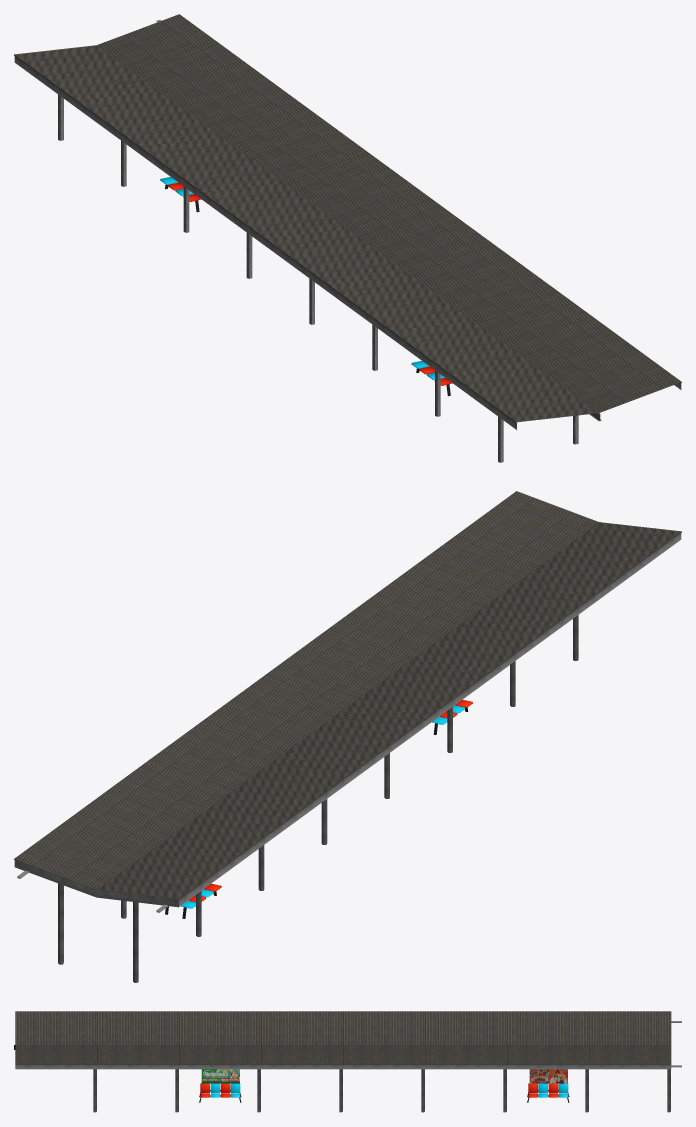
The model's file is AMB_HOME_YANE2_CENTER.glb.
3 renders of one model, top to bottom at view 1: azimuth 30°, elevation 25°; view 2: azimuth 150°, elevation 25°; view 3: azimuth 270°, elevation 25°, orthographic. The views are drawn at different scales.
Parts seen in each view (by area): view 1: Mesh6; view 2: Mesh6; view 3: Mesh6, obj24, obj22.
Boxes of the visible parts, x1=… form: Mesh6: x1=14, y1=14, x2=681, y2=462; Mesh6: x1=14, y1=491, x2=681, y2=982; Mesh6: x1=14, y1=1011, x2=681, y2=1112; obj24: x1=527, y1=1069, x2=569, y2=1102; obj22: x1=199, y1=1069, x2=241, y2=1102.
Size of the model in its own units: 19.01 by 10.42 by 102.
Materials: 16 (15 with a texture image).
